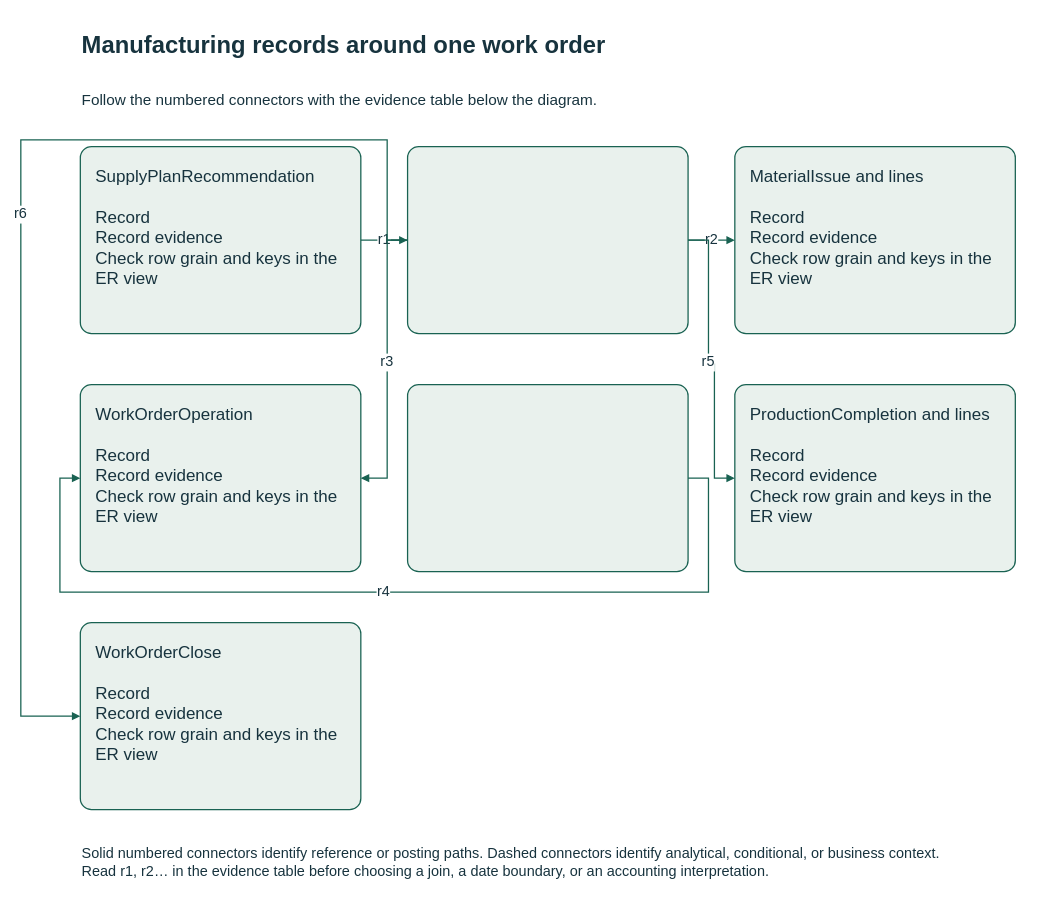
The diagram is 1039 pixels wide and 902 high, and some of its shapes have lost their labels. The shapes that lost their labels are listed below. From the top down, each one's centre as x and y in pixels, then its label:
At [547,240]: "WorkOrder Record Record evidence Check row grain and keys in the ER view".
At [547,478]: "LaborTimeEntry Record Record evidence Check row grain and keys in the ER view".
